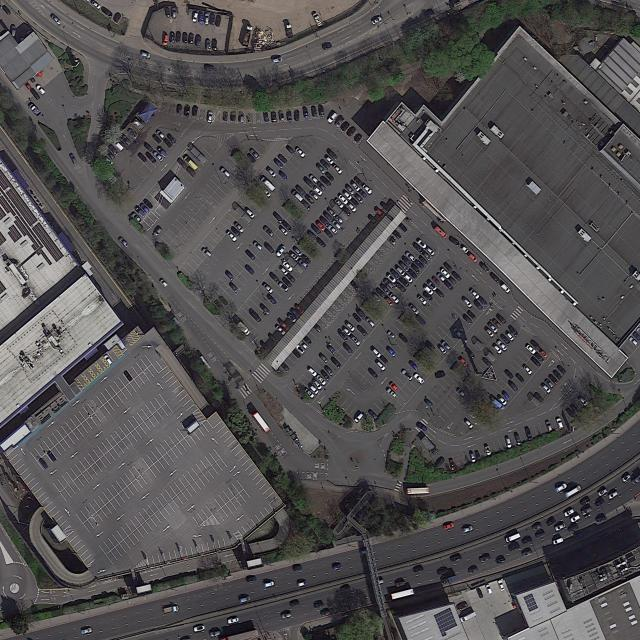large-vehicle: (252, 411, 271, 434), (420, 435, 440, 456), (391, 588, 414, 601), (242, 25, 253, 47), (459, 610, 477, 623), (440, 574, 459, 585), (28, 103, 42, 117), (407, 487, 430, 495), (163, 605, 180, 615), (312, 13, 323, 28), (285, 24, 294, 39)
small-vehicle: (260, 176, 276, 193), (183, 155, 199, 171), (564, 484, 582, 498), (236, 321, 251, 336), (434, 225, 448, 240), (400, 369, 414, 382), (505, 532, 521, 543), (291, 190, 304, 203), (349, 334, 362, 347), (156, 146, 169, 159), (117, 236, 130, 249), (496, 339, 509, 352), (491, 398, 504, 411), (326, 111, 338, 125), (134, 205, 146, 219), (29, 87, 41, 101), (249, 147, 261, 161), (564, 406, 576, 420), (260, 341, 272, 354), (275, 324, 287, 337), (315, 374, 327, 387), (177, 157, 189, 170), (127, 128, 139, 141), (50, 14, 63, 26), (233, 221, 245, 234), (263, 225, 275, 238), (226, 230, 238, 243), (219, 166, 231, 179), (282, 260, 294, 273), (278, 319, 290, 332), (389, 292, 401, 305), (379, 283, 392, 295), (439, 267, 451, 280), (281, 276, 293, 289), (413, 373, 426, 385), (434, 456, 446, 469), (251, 310, 262, 324), (346, 202, 358, 214), (315, 220, 327, 232), (320, 176, 332, 188), (312, 185, 324, 197), (300, 199, 312, 211), (362, 184, 374, 196), (343, 343, 355, 355), (152, 151, 164, 163), (120, 135, 132, 147), (244, 207, 256, 219), (252, 240, 264, 252), (297, 258, 309, 270), (577, 395, 589, 407), (469, 288, 481, 300), (461, 297, 473, 309), (530, 356, 542, 368), (530, 339, 542, 351), (464, 347, 476, 359), (375, 287, 387, 299), (386, 387, 398, 399), (420, 250, 433, 261), (303, 178, 316, 189), (296, 185, 307, 198), (404, 251, 417, 262), (108, 144, 119, 157), (146, 152, 157, 165), (101, 7, 114, 18), (275, 245, 286, 258), (555, 482, 568, 493), (262, 283, 275, 294), (524, 428, 534, 442), (338, 194, 349, 206), (334, 197, 345, 209), (331, 219, 343, 230), (327, 224, 339, 235), (375, 207, 386, 219), (391, 229, 403, 240), (467, 252, 479, 263), (480, 262, 491, 274), (353, 193, 365, 204), (345, 184, 356, 196), (328, 150, 339, 162), (304, 194, 316, 205), (350, 181, 361, 193), (416, 238, 428, 249), (331, 357, 342, 369), (338, 330, 349, 342), (357, 325, 368, 337), (357, 309, 368, 321), (268, 333, 279, 345), (308, 384, 320, 395), (443, 261, 454, 273), (201, 247, 213, 258), (214, 299, 225, 311), (103, 354, 114, 366), (368, 409, 379, 421), (295, 146, 306, 158), (186, 166, 197, 178), (139, 202, 150, 214), (131, 212, 142, 224), (1, 4, 12, 16), (35, 84, 46, 96), (245, 249, 256, 261), (231, 226, 242, 238), (371, 15, 383, 26), (301, 253, 312, 265), (565, 407, 576, 419), (569, 403, 580, 415), (466, 309, 477, 321), (497, 394, 508, 406), (525, 344, 537, 355), (492, 343, 503, 355), (500, 334, 511, 346), (508, 325, 519, 337), (484, 327, 495, 339), (488, 322, 499, 334), (491, 318, 503, 329), (294, 304, 306, 315), (567, 523, 579, 534), (395, 265, 406, 277), (399, 276, 410, 288), (390, 269, 402, 280), (386, 273, 398, 284), (383, 278, 394, 290), (548, 373, 559, 385), (451, 270, 462, 282), (427, 280, 438, 292), (422, 291, 434, 302), (260, 304, 271, 316), (267, 294, 278, 306), (368, 368, 379, 380), (417, 294, 428, 306), (409, 303, 420, 315), (415, 315, 427, 326), (452, 326, 463, 338), (490, 272, 501, 284), (500, 282, 511, 294), (533, 392, 545, 403), (376, 360, 387, 372), (437, 344, 448, 356), (417, 421, 429, 432), (425, 340, 436, 352), (39, 457, 49, 470), (47, 450, 57, 463), (167, 133, 177, 146), (320, 216, 331, 227), (380, 201, 391, 212), (368, 215, 379, 226), (449, 236, 460, 247), (425, 246, 436, 257), (342, 190, 353, 201), (332, 164, 343, 175), (320, 159, 331, 170), (316, 164, 327, 175), (308, 173, 319, 184), (309, 190, 320, 201), (412, 242, 423, 253), (287, 313, 298, 324), (295, 344, 306, 355), (326, 344, 337, 355), (365, 317, 376, 328), (307, 367, 318, 378), (312, 379, 323, 390), (414, 259, 425, 270), (402, 256, 413, 267), (399, 262, 410, 273), (245, 265, 256, 276), (304, 388, 315, 399), (103, 156, 114, 167), (137, 152, 148, 163), (261, 187, 272, 198), (143, 199, 154, 210), (274, 213, 285, 224), (266, 167, 277, 178), (282, 221, 293, 232), (289, 251, 300, 262), (628, 336, 639, 347), (515, 372, 526, 383), (534, 352, 545, 363), (496, 314, 507, 325), (463, 314, 474, 325), (552, 369, 563, 380), (278, 281, 289, 292), (270, 273, 281, 284), (349, 280, 360, 291), (541, 383, 552, 394), (371, 348, 382, 359), (398, 333, 409, 344), (408, 360, 419, 371), (423, 397, 434, 408), (458, 356, 469, 367), (347, 126, 357, 138), (292, 348, 302, 360), (225, 270, 235, 282), (123, 370, 133, 382), (354, 412, 364, 424), (140, 50, 152, 60), (274, 158, 284, 170), (265, 243, 275, 255), (478, 296, 488, 308), (607, 490, 619, 500), (581, 506, 593, 516), (563, 508, 575, 518), (474, 299, 484, 311), (554, 522, 566, 532), (479, 554, 491, 564), (456, 602, 468, 612), (227, 616, 240, 625), (239, 595, 252, 604), (508, 543, 521, 552), (484, 583, 493, 596), (484, 444, 493, 457), (514, 433, 523, 446), (556, 417, 565, 430), (324, 228, 334, 239), (324, 212, 334, 223), (387, 235, 397, 246), (398, 222, 408, 233), (350, 197, 360, 208), (325, 172, 336, 182), (316, 180, 326, 191), (354, 176, 364, 187), (299, 340, 309, 351), (303, 335, 313, 346), (312, 323, 323, 333), (418, 256, 429, 266), (345, 322, 356, 332), (352, 313, 362, 324), (218, 296, 229, 306), (278, 171, 289, 181), (105, 149, 115, 160), (144, 143, 155, 153), (163, 138, 173, 149), (153, 226, 163, 237), (278, 226, 289, 236), (247, 153, 257, 164), (278, 153, 288, 164), (279, 265, 289, 276), (293, 246, 303, 257), (290, 308, 300, 319), (580, 497, 591, 507), (621, 473, 632, 483), (595, 498, 606, 508), (509, 382, 519, 393), (523, 365, 533, 376), (504, 369, 514, 380), (482, 356, 492, 367), (505, 331, 515, 342), (546, 518, 557, 528), (556, 365, 567, 375), (403, 274, 414, 284), (397, 283, 407, 294), (448, 276, 458, 287), (444, 280, 454, 291), (435, 289, 446, 299), (464, 419, 474, 430), (545, 378, 555, 389), (441, 340, 451, 351), (389, 381, 399, 392), (91, 0, 102, 10), (552, 537, 564, 546), (450, 554, 462, 563), (80, 627, 93, 635), (193, 625, 206, 633), (209, 630, 222, 638), (497, 579, 505, 592), (505, 437, 513, 450), (545, 420, 553, 433), (342, 206, 352, 216), (327, 207, 337, 217), (460, 245, 470, 255), (341, 122, 351, 132), (358, 189, 368, 199), (321, 371, 331, 381), (324, 366, 334, 376), (280, 362, 290, 372), (342, 326, 352, 336), (152, 134, 162, 144), (501, 391, 511, 401), (539, 349, 549, 359), (408, 269, 418, 279), (372, 293, 382, 303), (436, 272, 446, 282), (286, 273, 296, 283), (379, 355, 389, 365), (387, 347, 397, 357), (456, 387, 466, 397), (156, 129, 165, 140), (322, 42, 333, 51), (597, 488, 608, 497), (570, 514, 581, 523), (532, 523, 543, 532), (522, 537, 533, 546), (522, 549, 533, 558), (468, 566, 479, 575), (34, 67, 43, 78), (27, 72, 36, 83), (10, 25, 17, 39), (69, 153, 77, 165), (191, 11, 199, 23), (272, 56, 284, 64), (262, 111, 270, 123), (595, 516, 607, 524), (462, 525, 474, 533), (535, 531, 547, 539), (476, 588, 484, 600), (443, 522, 455, 530), (412, 566, 424, 574), (434, 371, 446, 379), (436, 568, 449, 575), (334, 215, 344, 224), (411, 263, 420, 273), (159, 279, 169, 288), (230, 283, 239, 293), (287, 146, 296, 156), (574, 531, 584, 540), (26, 30, 35, 40), (385, 297, 394, 307), (247, 576, 258, 584), (281, 612, 292, 620), (495, 557, 506, 565), (320, 609, 331, 617), (264, 581, 275, 589), (297, 580, 308, 588), (395, 580, 406, 588), (340, 585, 351, 593), (469, 452, 477, 463), (162, 34, 169, 46), (169, 32, 176, 44), (209, 13, 216, 25), (215, 16, 222, 28), (195, 35, 202, 47), (278, 111, 285, 123), (449, 459, 456, 471), (23, 80, 32, 89), (432, 276, 441, 285), (387, 330, 396, 339), (114, 13, 122, 23), (333, 563, 343, 571), (204, 12, 210, 25), (184, 105, 190, 118), (164, 7, 171, 18), (192, 106, 199, 117), (230, 111, 237, 122), (289, 601, 300, 608), (313, 602, 324, 609), (475, 451, 482, 462), (355, 134, 363, 143), (326, 156, 334, 165), (320, 355, 329, 363), (176, 32, 182, 44), (199, 13, 205, 25), (188, 33, 194, 45), (271, 112, 277, 124), (294, 110, 300, 122), (303, 107, 309, 119), (207, 111, 213, 123), (293, 565, 303, 572), (171, 7, 177, 18), (238, 112, 244, 123), (287, 111, 293, 122), (319, 106, 325, 117), (206, 39, 211, 52), (212, 39, 217, 51), (205, 65, 215, 71), (222, 111, 228, 121), (183, 33, 188, 44), (312, 107, 317, 118), (177, 105, 183, 114), (361, 549, 370, 555), (376, 579, 384, 585)
storage-tank: (579, 36, 594, 54)
